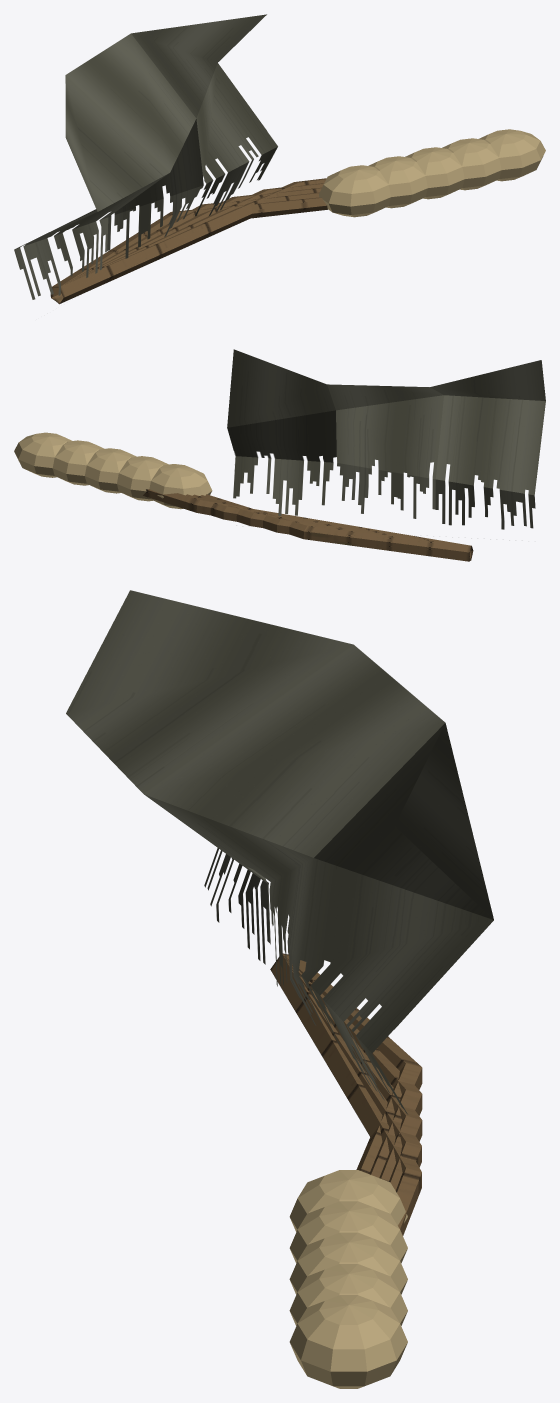
The model's file is nghia-dia-bo-hoa-heo.glb.
3 renders of one model, top to bottom at view 1: azimuth 30°, elevation 25°; view 2: azimuth 150°, elevation 25°; view 3: azimuth 270°, elevation 25°, orthographic. The views are drawn at different scales.
Parts seen in each view (by area): view 1: nghia-dia-bo-hoa-heo; view 2: nghia-dia-bo-hoa-heo; view 3: nghia-dia-bo-hoa-heo.
Boxes of the visible parts, <box> form: nghia-dia-bo-hoa-heo: <box>14,14,545,304</box>; nghia-dia-bo-hoa-heo: <box>14,349,545,561</box>; nghia-dia-bo-hoa-heo: <box>66,590,493,1388</box>.
Bounding box in the file's own units: 0.9119 × 0.3233 × 0.3469.
3 materials, 2 textured.
